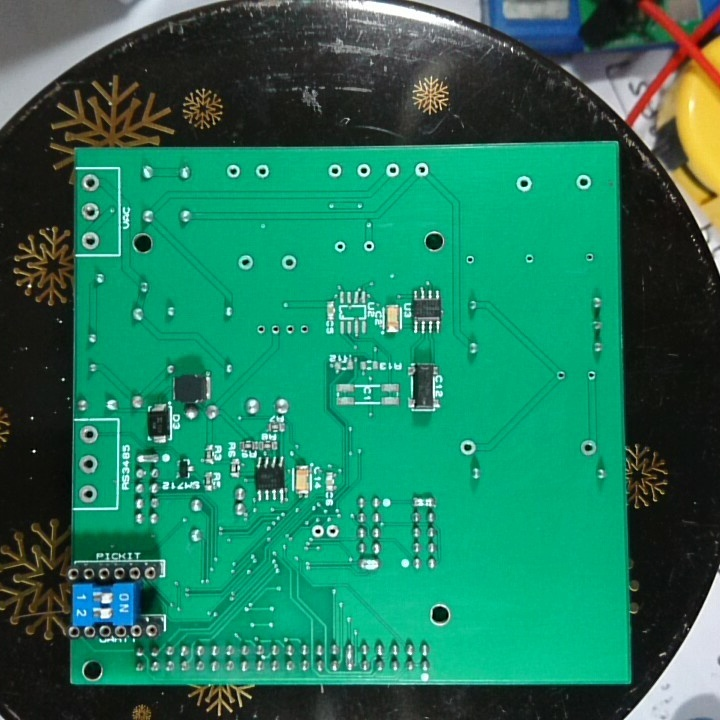F: (76, 453, 100, 477), (79, 172, 104, 195), (79, 200, 102, 223), (76, 483, 101, 503), (78, 423, 99, 446), (412, 158, 432, 181), (578, 437, 598, 459), (279, 252, 301, 272), (573, 172, 593, 193), (353, 161, 373, 181), (324, 162, 345, 181), (79, 232, 102, 249), (514, 175, 535, 193), (459, 437, 477, 457), (224, 162, 242, 182), (236, 254, 256, 271), (253, 163, 272, 180), (330, 238, 349, 255), (309, 522, 325, 542), (384, 162, 402, 179), (325, 520, 339, 541), (361, 239, 378, 256), (521, 250, 536, 267), (584, 366, 599, 383), (267, 320, 281, 338), (554, 368, 570, 383), (296, 320, 310, 336), (282, 321, 296, 336), (255, 322, 268, 338), (584, 250, 596, 266), (463, 252, 476, 266)
P: (342, 639, 356, 673), (411, 493, 437, 509), (358, 557, 381, 573), (135, 452, 161, 466)
